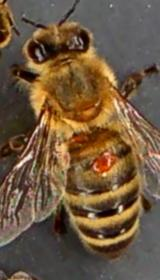varroa_mite: (88, 142, 120, 186)
